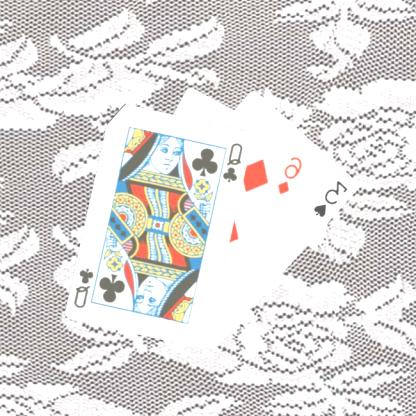3S: (312, 177, 352, 219)
6D: (276, 153, 306, 196)
QC: (73, 265, 97, 310), (222, 140, 246, 184)
